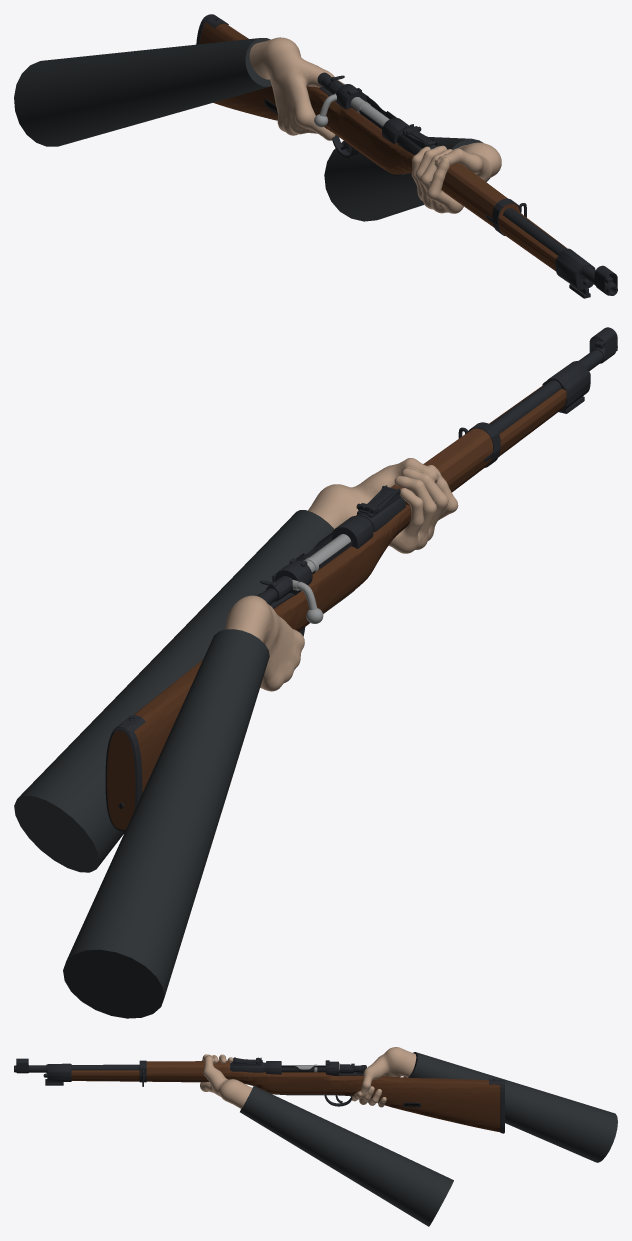
The model's file is kar98k.glb.
3 views of the same model, one above another, from view 1: azimuth 30°, elevation 25°; view 2: azimuth 150°, elevation 25°; view 3: azimuth 270°, elevation 25° (orthographic). The views are drawn at different scales.
Visible parts, largest first — view 1: view-sleeve-r, kar98k-body, view-sleeve-l, hand-r, hand-l; view 2: view-sleeve-r, kar98k-body, view-sleeve-l, hand-l, hand-r; view 3: kar98k-body, view-sleeve-l, view-sleeve-r, hand-r, hand-l.
Boxes of the visible parts, x1,y1,x2,y2 form: view-sleeve-r: (14,38,271,146); kar98k-body: (196,14,617,298); view-sleeve-l: (324,137,489,221); hand-r: (249,37,344,140); hand-l: (411,142,501,213); view-sleeve-r: (63,629,269,1018); kar98k-body: (105,327,617,831); view-sleeve-l: (14,510,334,872); hand-l: (308,458,458,553); hand-r: (225,595,304,691); kar98k-body: (14,1057,505,1133); view-sleeve-l: (240,1086,453,1226); view-sleeve-r: (403,1052,617,1162); hand-r: (350,1047,416,1107); hand-l: (200,1054,252,1108).
Size of the model in its own units: 0.4062 by 0.351 by 1.37.
